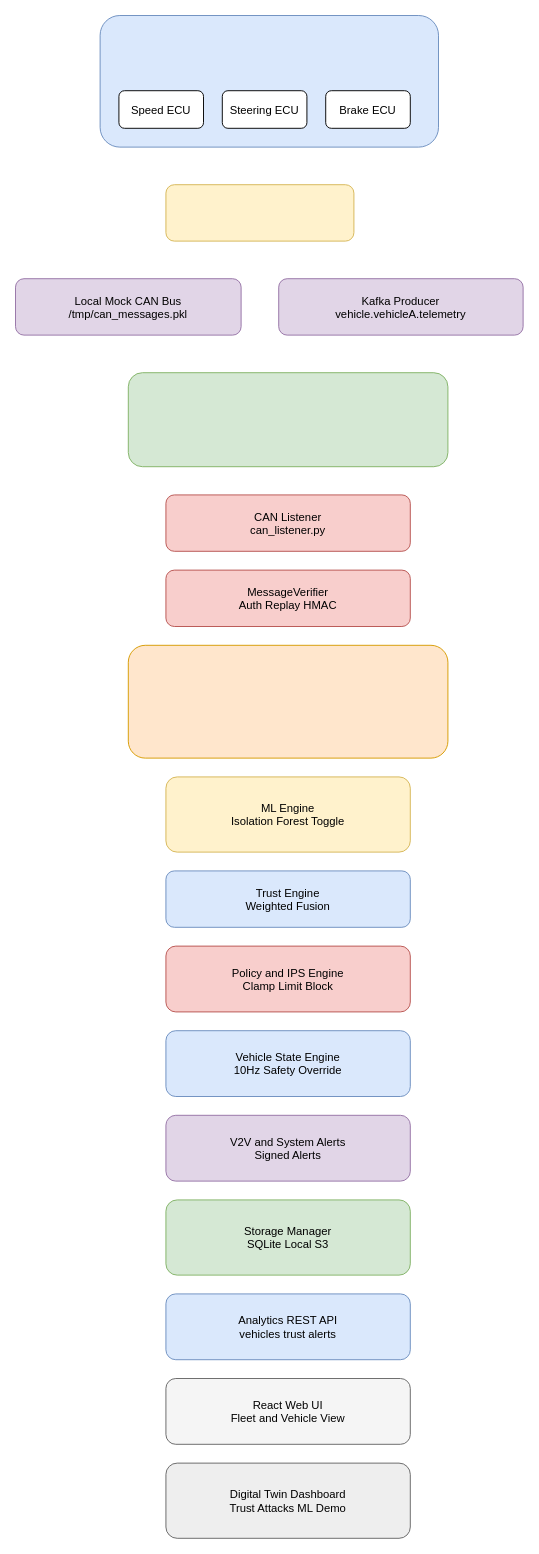
The diagram is 539 pixels wide and 1554 high, and some of its shapes have lost their labels. Each missing label, with the box of its shape:
Kafka Cluster telemetry, security, alerts, v2v: (127, 372, 448, 467)
MessageSigner HMAC-SHA256: (165, 184, 354, 241)
Security Analysis Pipeline Feature Behavioral Context Physics Temporal: (127, 644, 448, 758)
Vehicle A (Edge Node): (99, 15, 439, 147)
